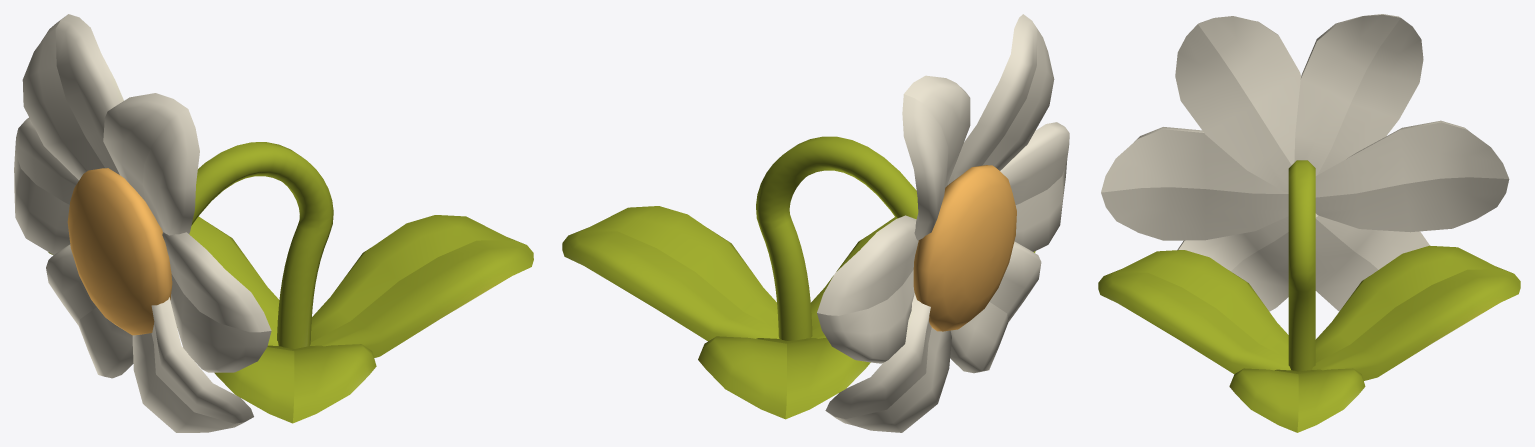
File: FlowerAngle_unwrapped.fbx
3 views of the same model, side by side, from view 1: azimuth 30°, elevation 25°; view 2: azimuth 150°, elevation 25°; view 3: azimuth 270°, elevation 25° (orthographic). The views are drawn at different scales.
Parts seen in each view (by area): view 1: leave, center, petal 006, caule, petal 01, petal 002, leave002, petal 003, petal 005, petal 004, leave001; view 2: leave, center, caule, petal 005, leave001, petal 004, petal 01, petal 006, petal 002, petal 003, leave002; view 3: petal 005, leave001, petal 01, petal 002, petal 006, leave002, leave, caule, petal 004, petal 003.
Boxes of the visible parts, x1=… form: leave: x1=310, y1=215, x2=533, y2=357; center: x1=67, y1=168, x2=172, y2=335; petal 006: x1=22, y1=14, x2=123, y2=180; caule: x1=191, y1=142, x2=333, y2=348; petal 01: x1=103, y1=93, x2=199, y2=235; petal 002: x1=162, y1=232, x2=271, y2=372; leave002: x1=214, y1=344, x2=376, y2=423; petal 003: x1=132, y1=297, x2=253, y2=432; petal 005: x1=14, y1=117, x2=78, y2=254; petal 004: x1=46, y1=244, x2=133, y2=378; leave001: x1=48, y1=216, x2=279, y2=345; leave: x1=562, y1=206, x2=779, y2=341; center: x1=913, y1=165, x2=1016, y2=331; caule: x1=756, y1=136, x2=918, y2=340; petal 005: x1=817, y1=215, x2=918, y2=363; leave001: x1=698, y1=336, x2=870, y2=419; petal 004: x1=825, y1=293, x2=951, y2=432; petal 01: x1=947, y1=14, x2=1054, y2=184; petal 006: x1=902, y1=75, x2=970, y2=240; petal 002: x1=1000, y1=122, x2=1069, y2=251; petal 003: x1=950, y1=241, x2=1041, y2=373; leave002: x1=810, y1=217, x2=1035, y2=338; petal 005: x1=1315, y1=120, x2=1509, y2=232; leave001: x1=1312, y1=245, x2=1520, y2=380; petal 01: x1=1175, y1=16, x2=1301, y2=192; petal 002: x1=1101, y1=127, x2=1288, y2=240; petal 006: x1=1294, y1=14, x2=1423, y2=175; leave002: x1=1098, y1=250, x2=1290, y2=373; leave: x1=1229, y1=368, x2=1365, y2=432; caule: x1=1288, y1=160, x2=1315, y2=371; petal 004: x1=1315, y1=213, x2=1429, y2=311; petal 003: x1=1177, y1=216, x2=1288, y2=311.
Size of the model in its own units: 42.09 by 32.8 by 41.06.
